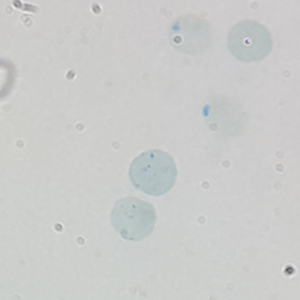erythrocyte: (225, 19, 275, 64), (168, 11, 214, 56)
punctate reticulocyte: (126, 147, 180, 198), (108, 196, 158, 242)
